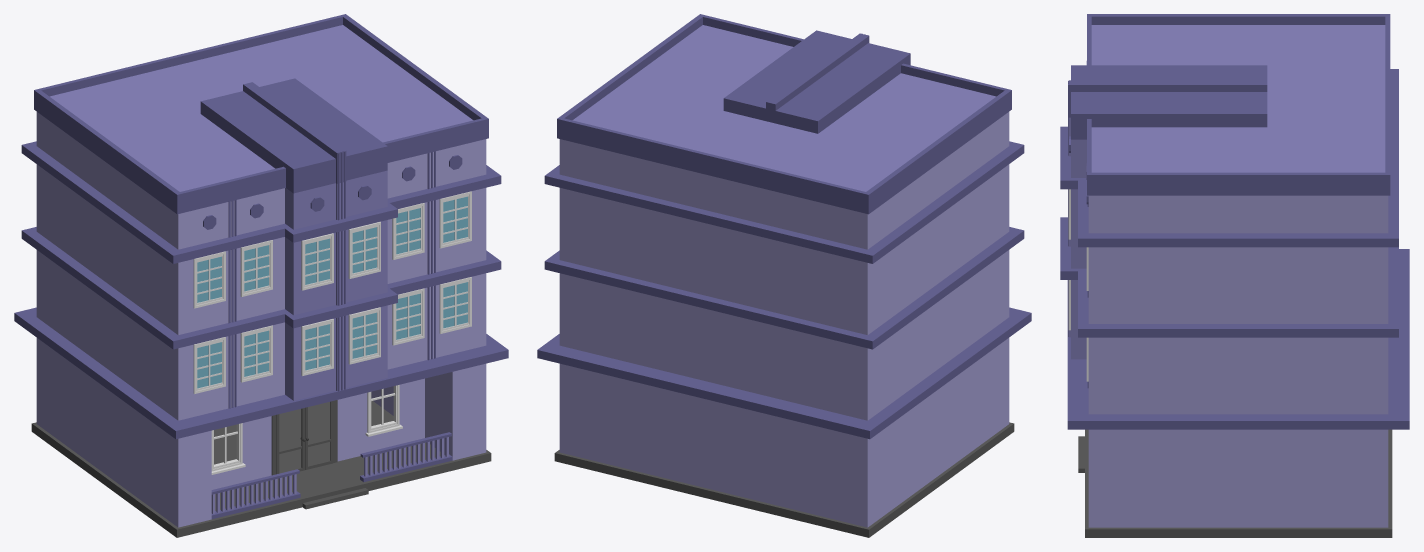
The model's file is House_08.fbx.
3 views of the same model, side by side, from view 1: azimuth 30°, elevation 25°; view 2: azimuth 150°, elevation 25°; view 3: azimuth 270°, elevation 25° (orthographic). The views are drawn at different scales.
Parts seen in each view (by area): view 1: House_08, House_08_Door2, House_08_Door1; view 2: House_08; view 3: House_08.
Part boxes in pixels (x1,y1,x2,y2): House_08: (14, 14, 508, 537); House_08_Door2: (305, 401, 333, 469); House_08_Door1: (276, 408, 305, 474); House_08: (537, 14, 1031, 537); House_08: (1060, 14, 1409, 537).
Size of the model in its own units: 1059 by 1074 by 909.
